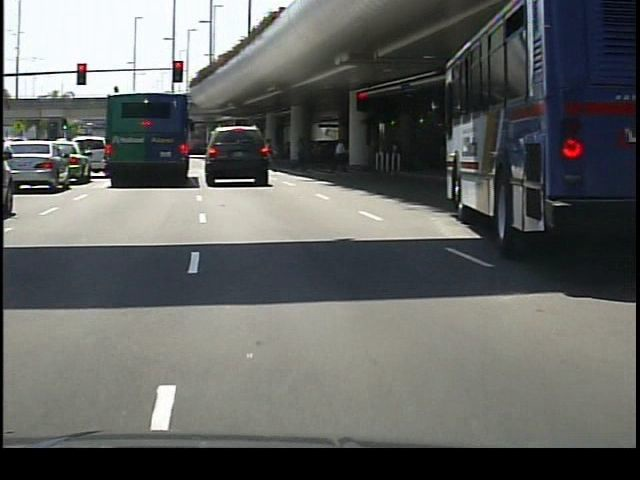person: (289, 134, 310, 177), (328, 135, 348, 172)
